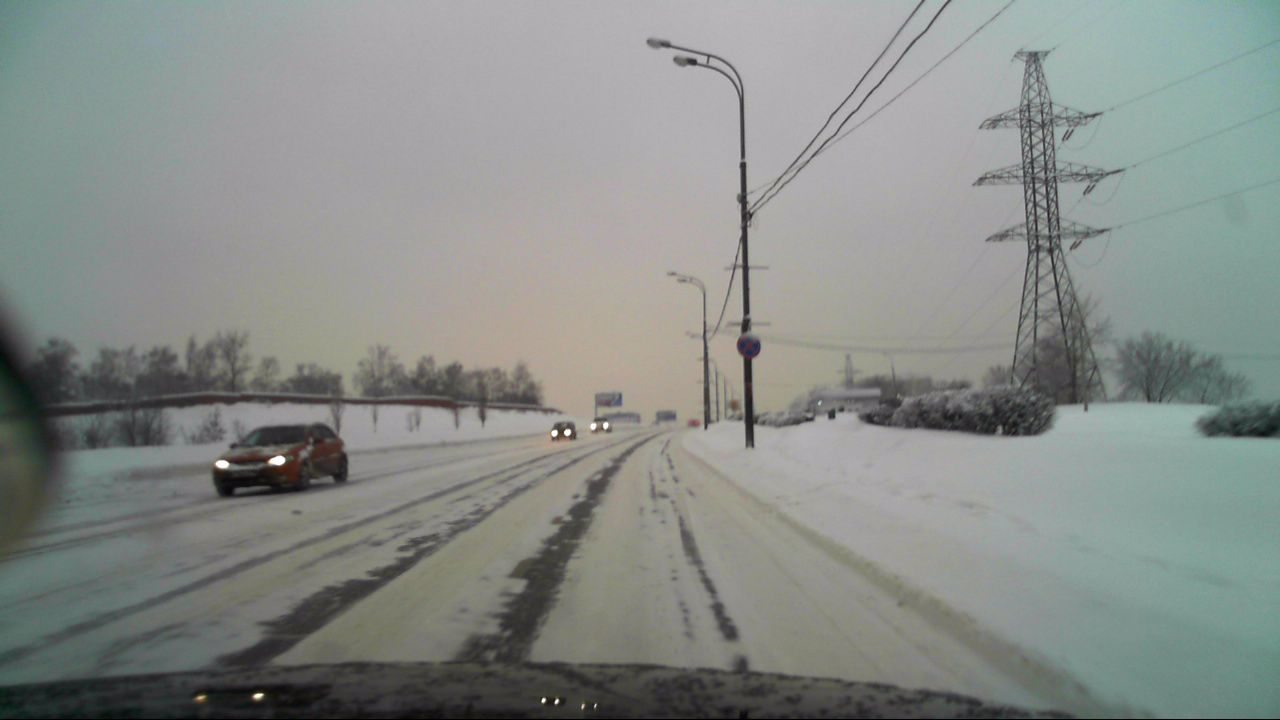No Parking: (734, 332, 762, 359)
